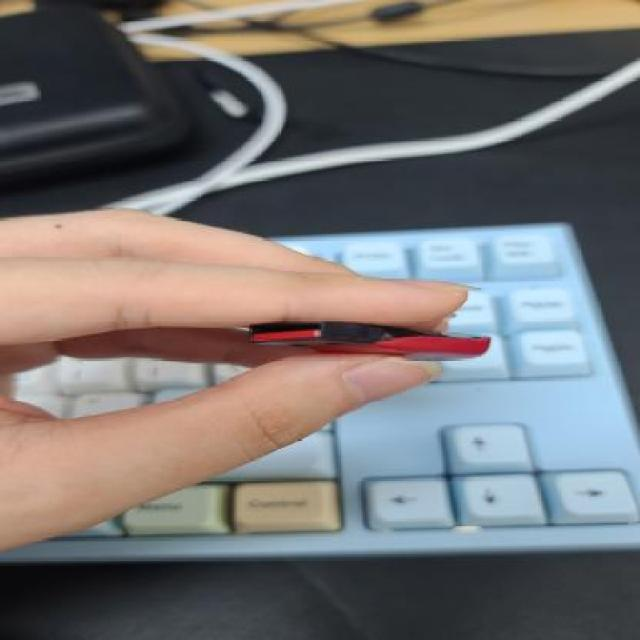Flashdisk: (245, 318, 493, 362)
